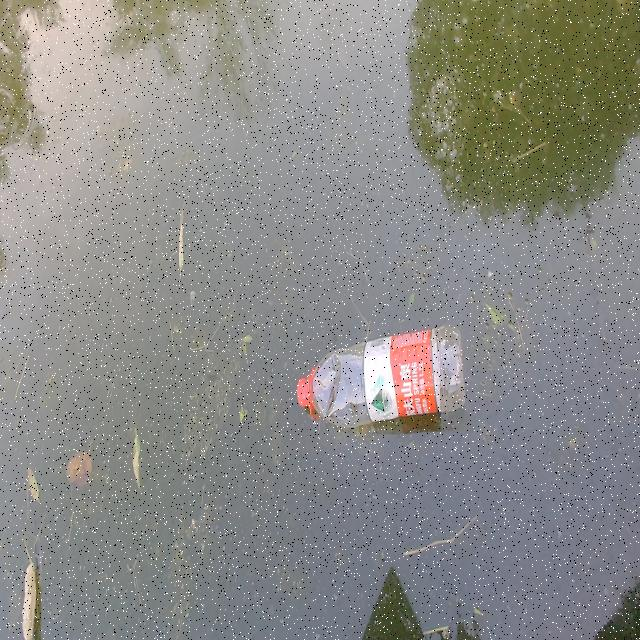Bottle: (294, 320, 468, 430)
